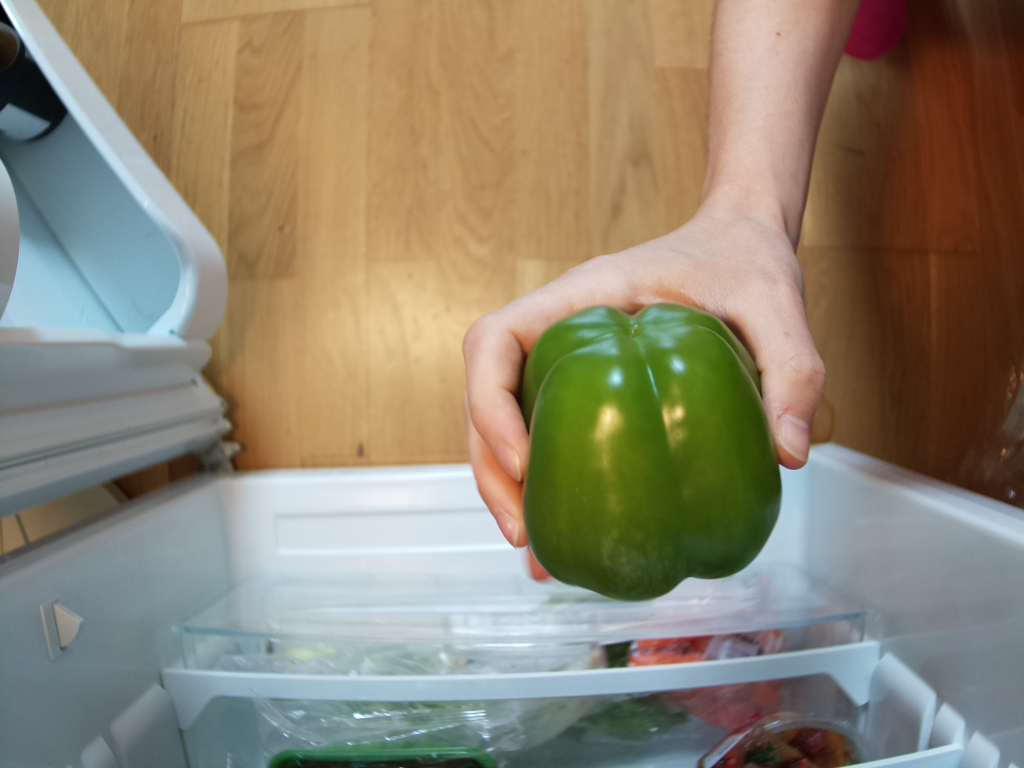pepper: (519, 300, 784, 602)
